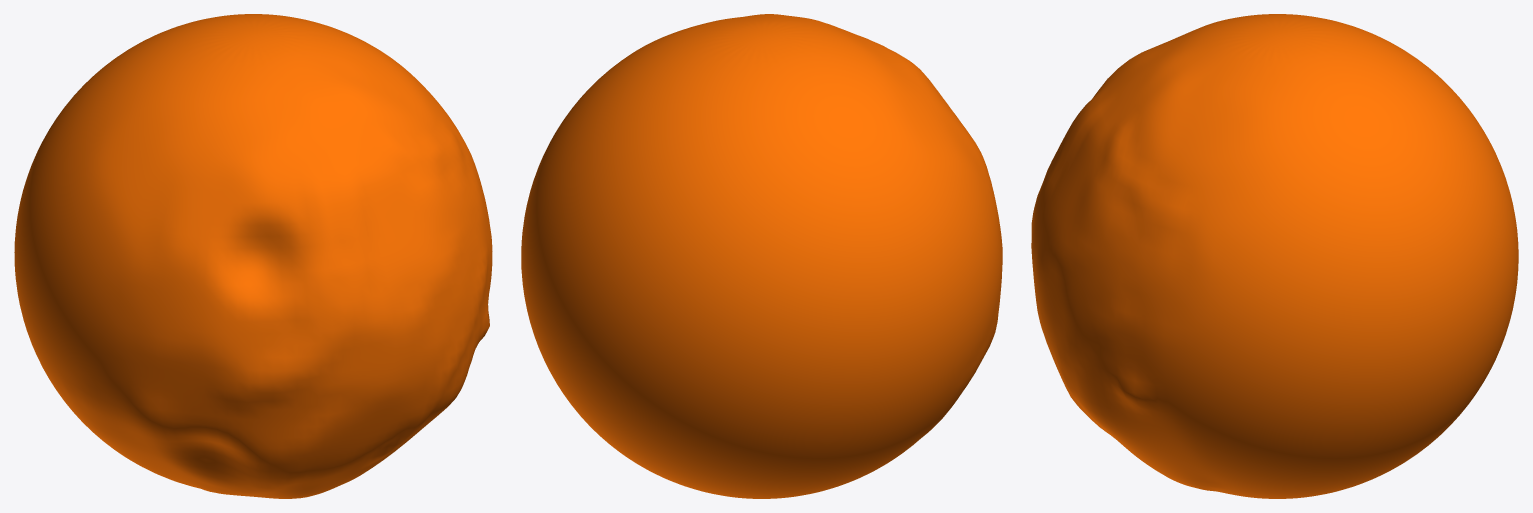
The model's file is mars.fbx.
3 renders of one model, left to right at view 1: azimuth 30°, elevation 25°; view 2: azimuth 150°, elevation 25°; view 3: azimuth 270°, elevation 25°, orthographic.
Parts seen in each view (by area): view 1: Sphere; view 2: Sphere; view 3: Sphere.
Part boxes in pixels (box(x1,y1,x2,y2)): Sphere: box(14, 14, 492, 498); Sphere: box(521, 14, 1002, 498); Sphere: box(1031, 14, 1518, 498).
Size of the model in its own units: 197 by 200 by 199.
